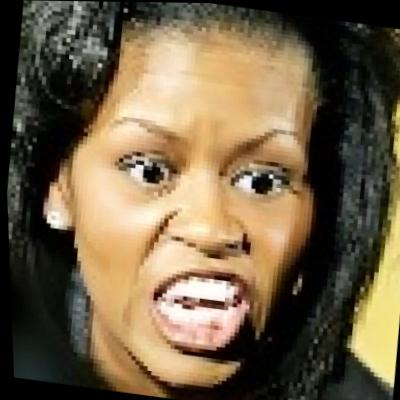angry: (44, 8, 344, 398)
